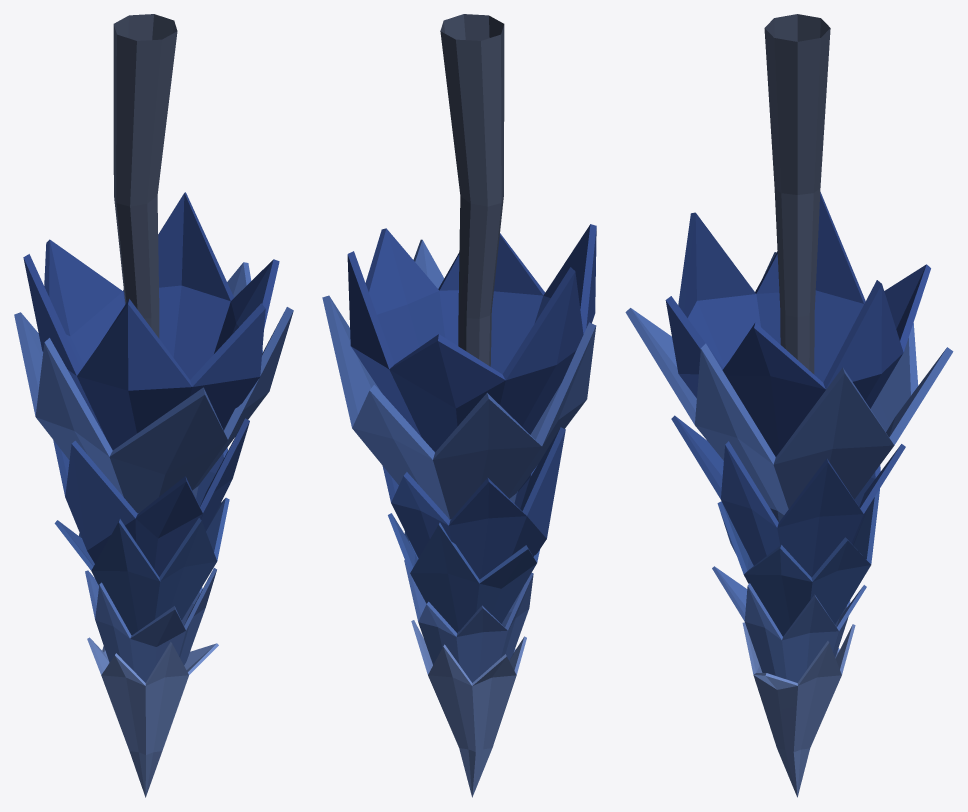
The model's file is sp_tree03.glb.
The picture shows the model from 3 angles, left to right: view 1: azimuth 30°, elevation 25°; view 2: azimuth 150°, elevation 25°; view 3: azimuth 270°, elevation 25°; orthographic projection.
Visible parts, largest first — view 1: SP_Tree03; view 2: SP_Tree03; view 3: SP_Tree03.
Boxes of the visible parts, box(x1,y1,x2,y2) form: SP_Tree03: box(14, 14, 293, 797); SP_Tree03: box(322, 14, 596, 797); SP_Tree03: box(625, 14, 953, 797).
Bounding box in the file's own units: 105 × 323 × 125.
Materials: 1 (1 with a texture image).
